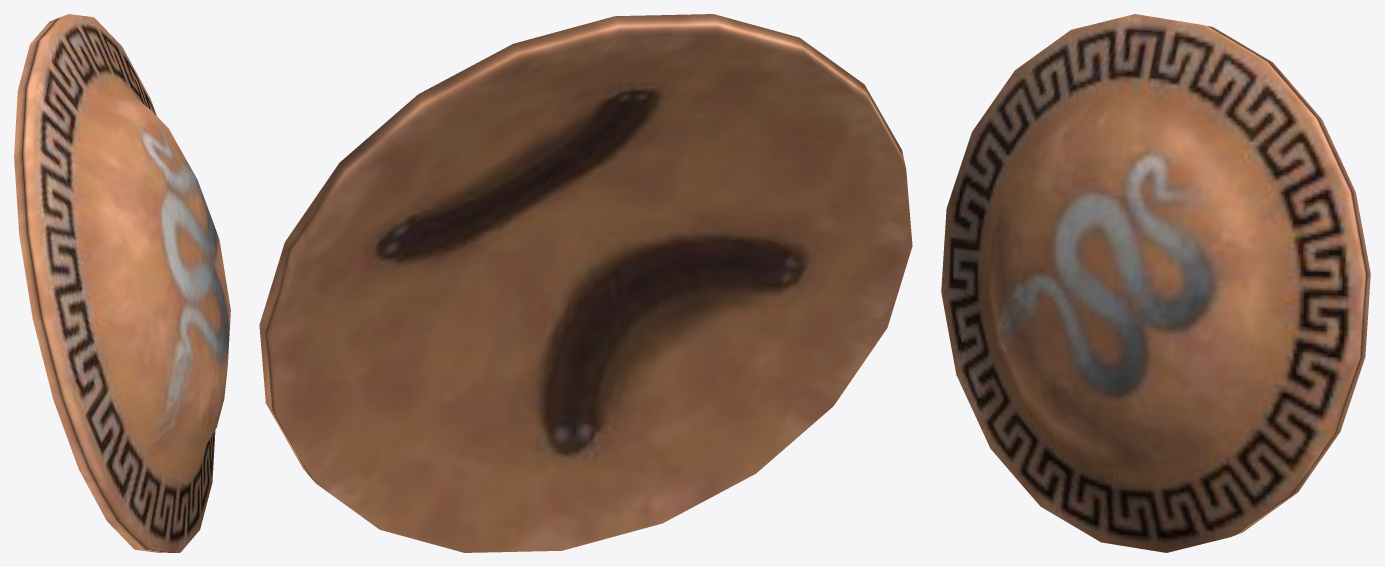
Rendered from rider-shield-slice-ironshields.glb.
The picture shows the model from 3 angles, left to right: view 1: azimuth 30°, elevation 25°; view 2: azimuth 150°, elevation 25°; view 3: azimuth 270°, elevation 25°; orthographic projection. The views are drawn at different scales.
Size of the model in its own units: 0.3969 by 0.5388 by 0.4444.
1 material, 1 textured.
